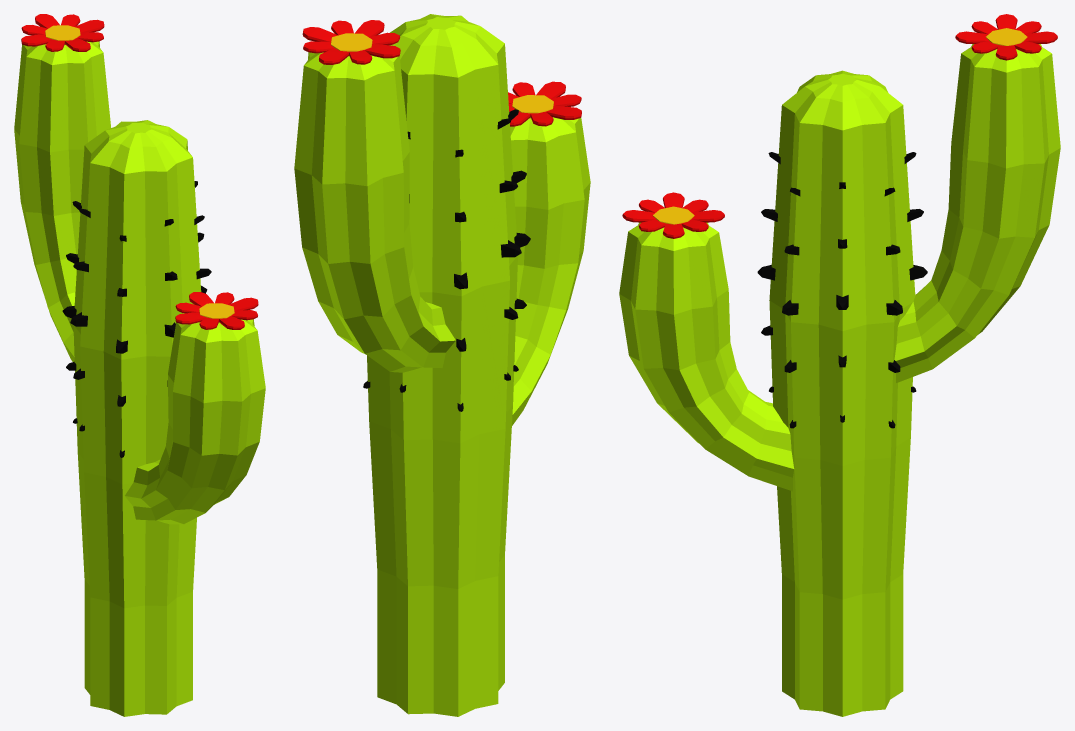
File: Cardon01_02Brazos_Flor_Roja.fbx
The picture shows the model from 3 angles, left to right: view 1: azimuth 30°, elevation 25°; view 2: azimuth 150°, elevation 25°; view 3: azimuth 270°, elevation 25°; orthographic projection. The views are drawn at different scales.
Parts seen in each view (by area): view 1: Cactus, Flor_Roja, Espinas; view 2: Cactus, Flor_Roja, Espinas; view 3: Cactus, Flor_Roja, Espinas.
Boxes of the visible parts, x1,y1,x2,y2 form: Cactus: (14, 41, 265, 716); Flor_Roja: (21, 14, 258, 329); Espinas: (62, 181, 211, 457); Cactus: (294, 14, 590, 716); Flor_Roja: (302, 20, 581, 126); Espinas: (363, 109, 530, 411); Cactus: (619, 44, 1060, 716); Flor_Roja: (622, 14, 1057, 238); Espinas: (757, 152, 927, 428).
Size of the model in its own units: 53.18 by 226 by 138.
